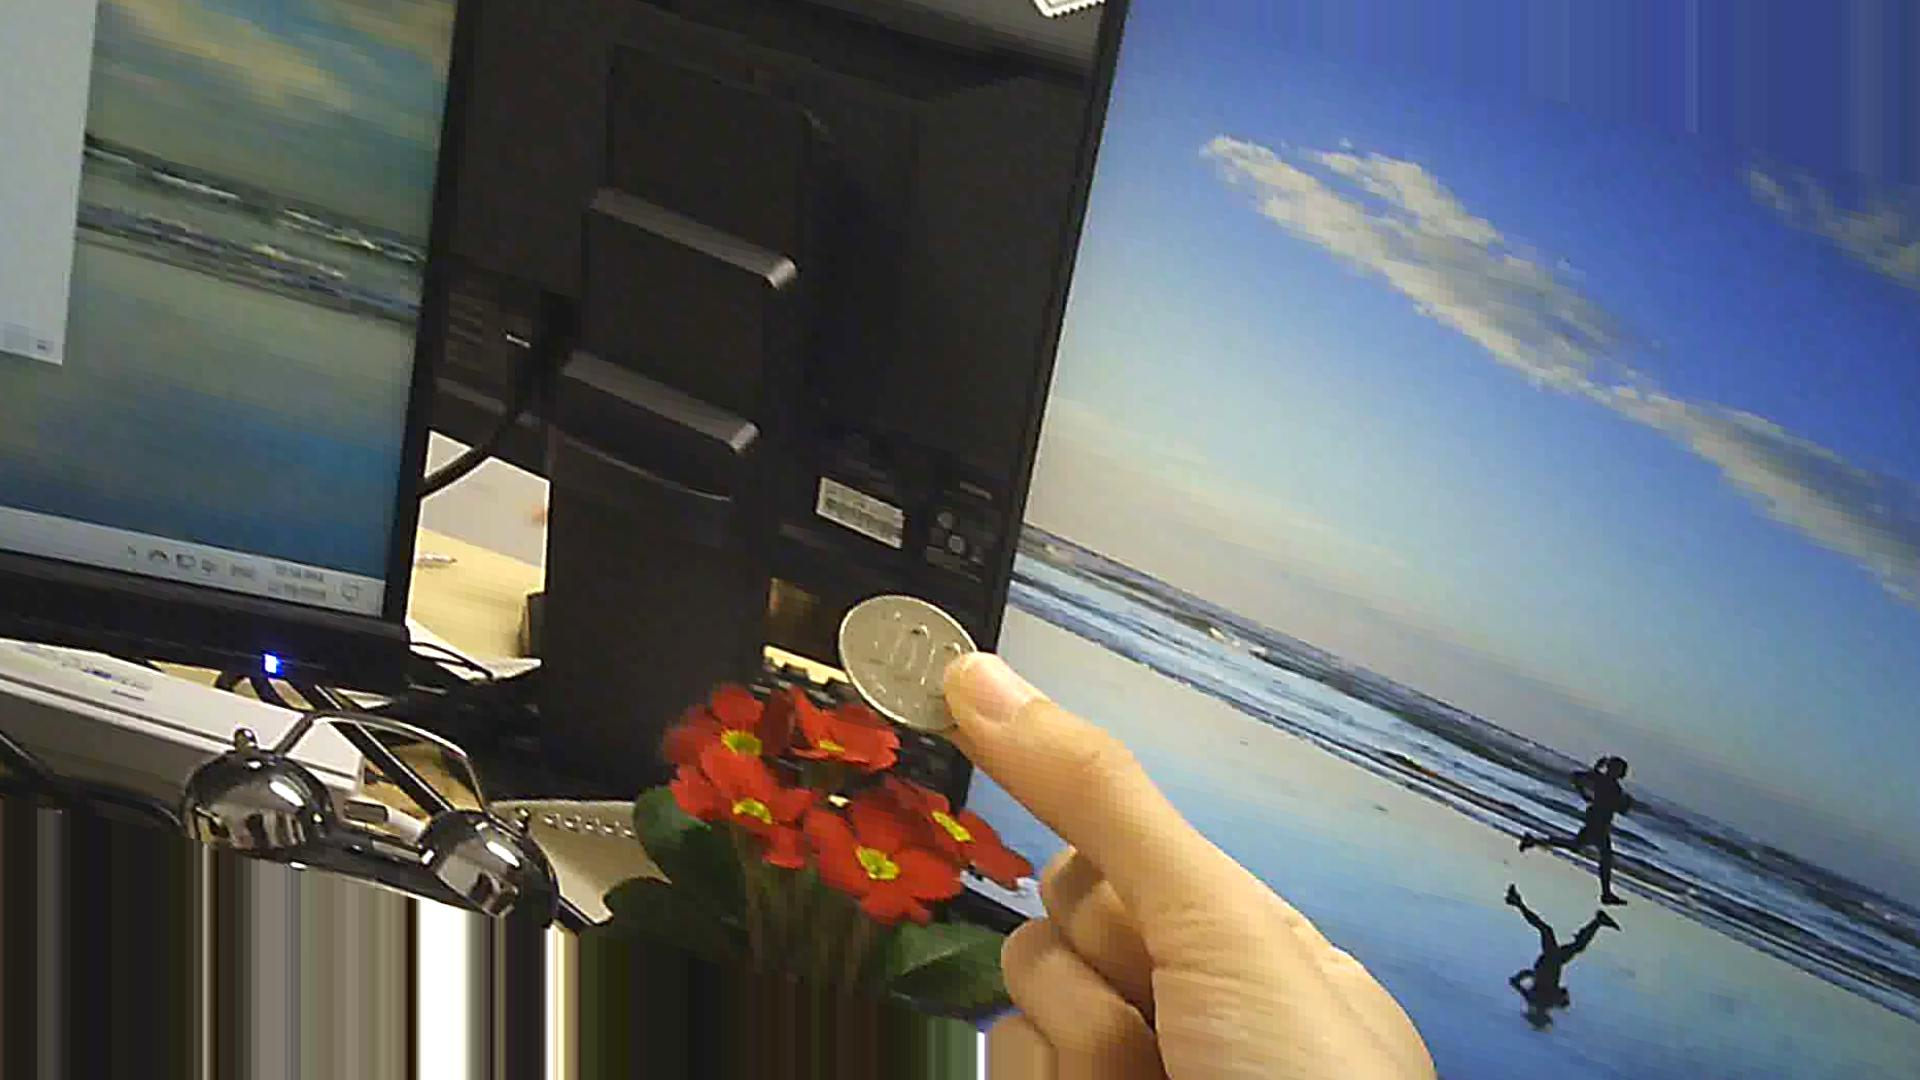100 Yen: (833, 579, 978, 742)
